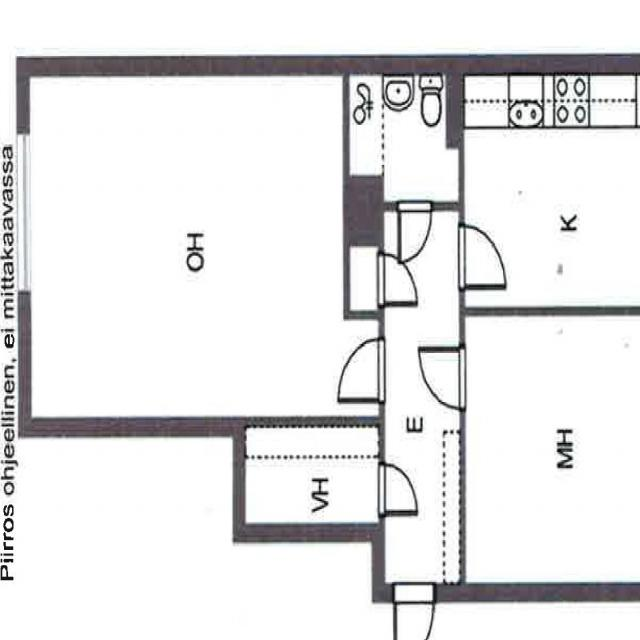door: (337, 339, 384, 401), (419, 347, 465, 408), (458, 226, 504, 286), (394, 583, 434, 640), (378, 254, 417, 305), (378, 464, 416, 514), (399, 202, 431, 261)
